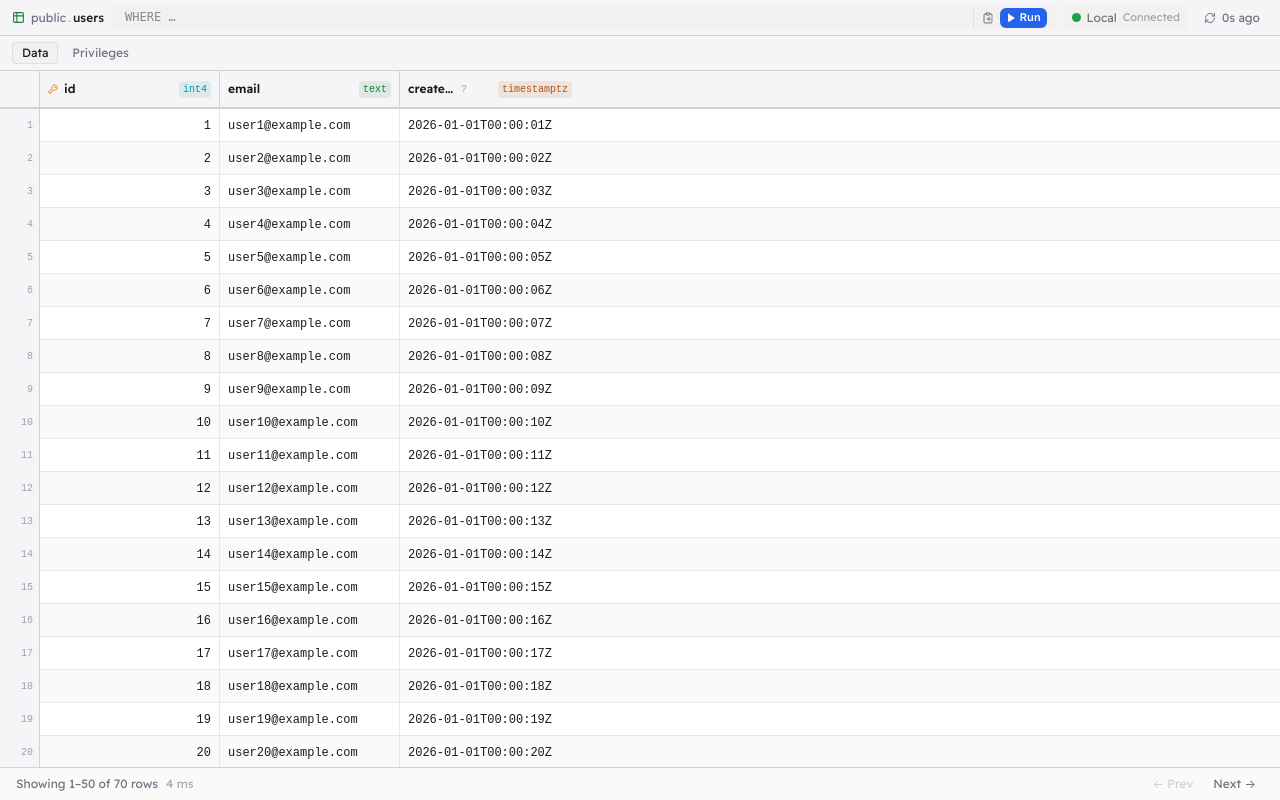
pagination › steps forward and back, enabling each control at the right edge
expect the button "← Prev" is disabled: met, box [1144,774,1201,794]
Click the button "Next →" at {"x": 1235, "y": 784}, box [1205,774,1264,794]
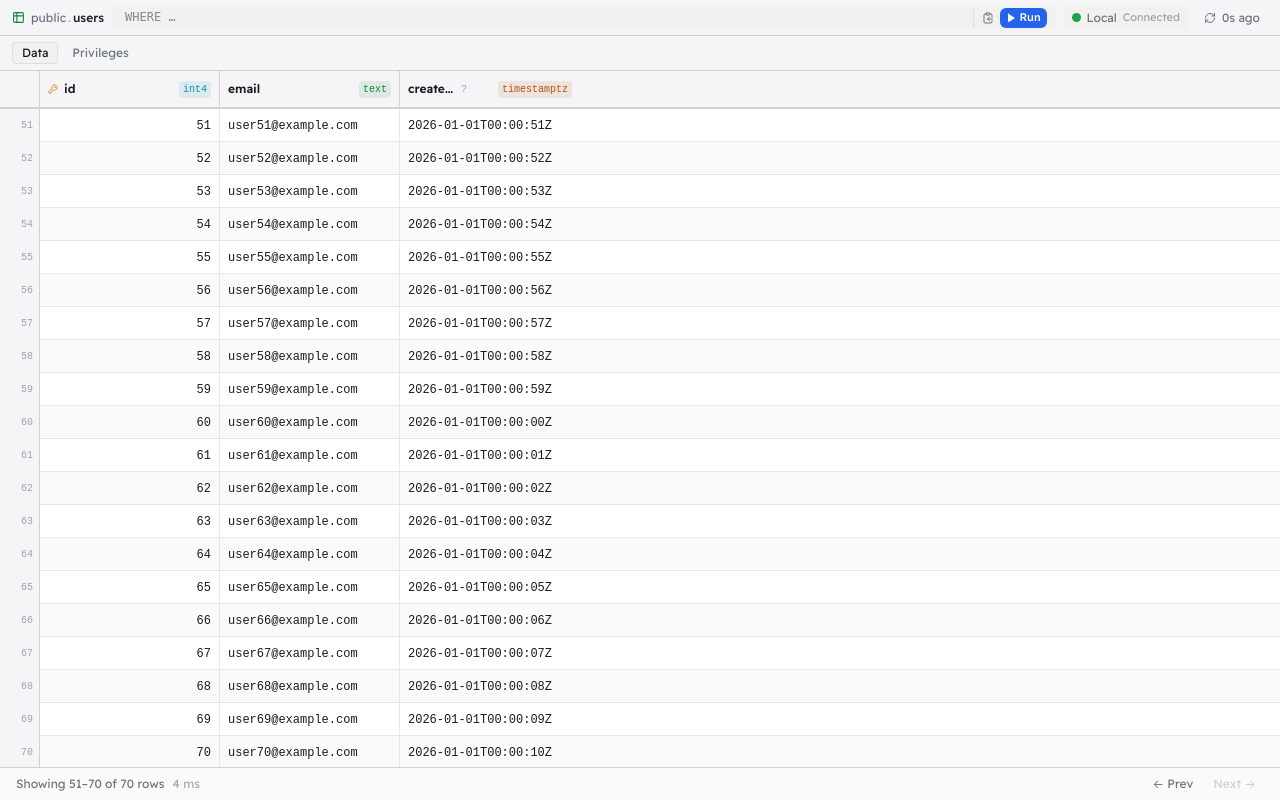
expect the text "user51@example.com" is shown: met, box [228,118,358,134]
expect the button "Next →" is disabled: met, box [1205,774,1264,794]
expect the button "← Prev" is enabled: met
Click the button "← Prev" at {"x": 1173, "y": 784}, box [1144,774,1201,794]
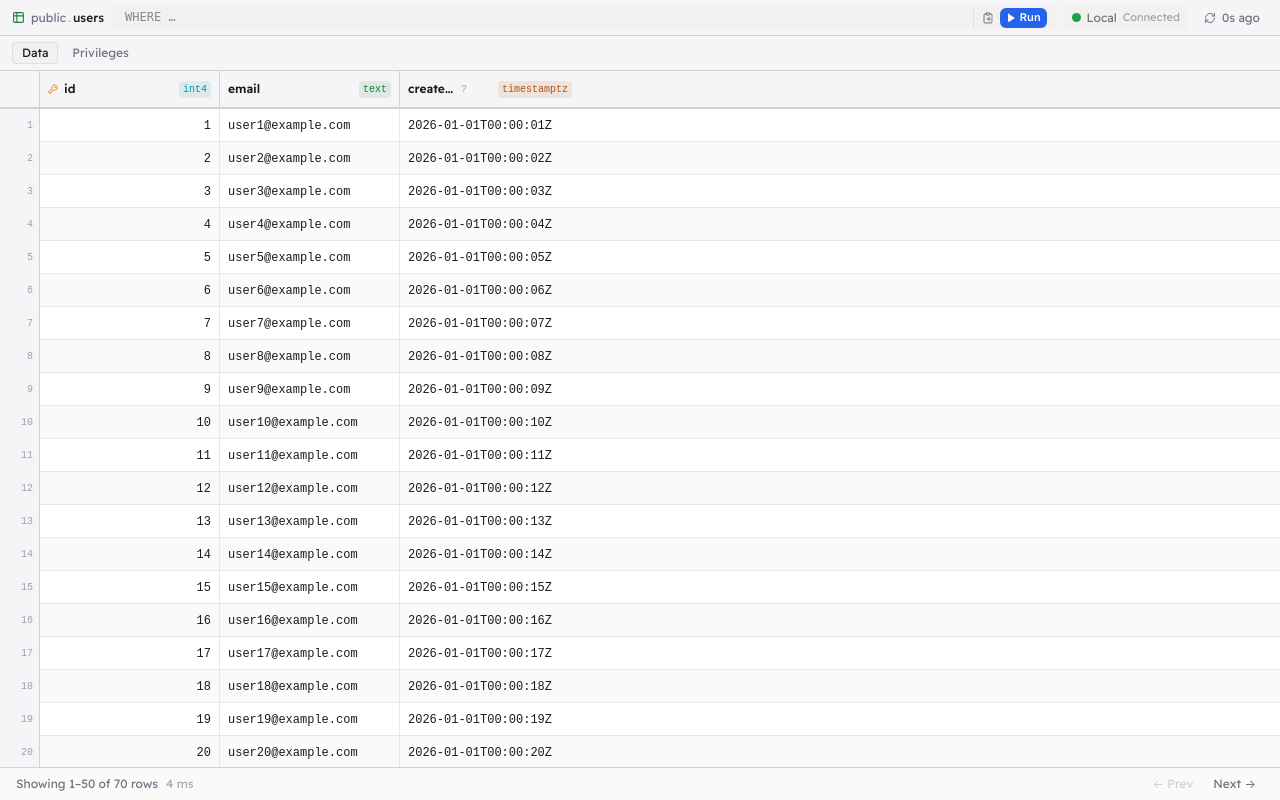
expect the button "← Prev" is disabled: met, box [1144,774,1201,794]
